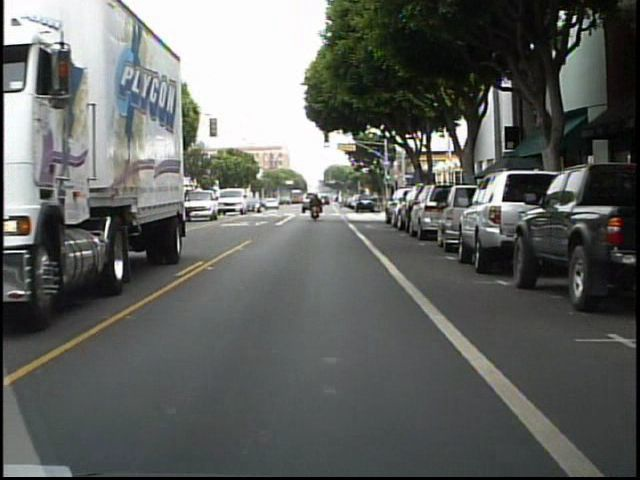person: (308, 192, 323, 222)
